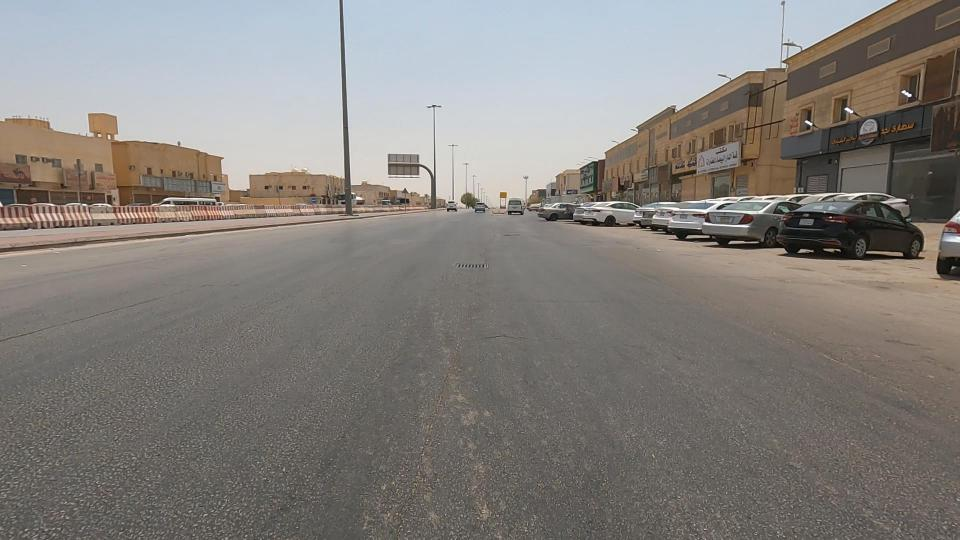BAD_BILLBOARD: (899, 84, 960, 174), (761, 111, 844, 174), (576, 165, 642, 206), (628, 152, 688, 189)
CONSTRUCTION_ROAD: (0, 179, 137, 252), (85, 186, 246, 243), (204, 186, 309, 244)
